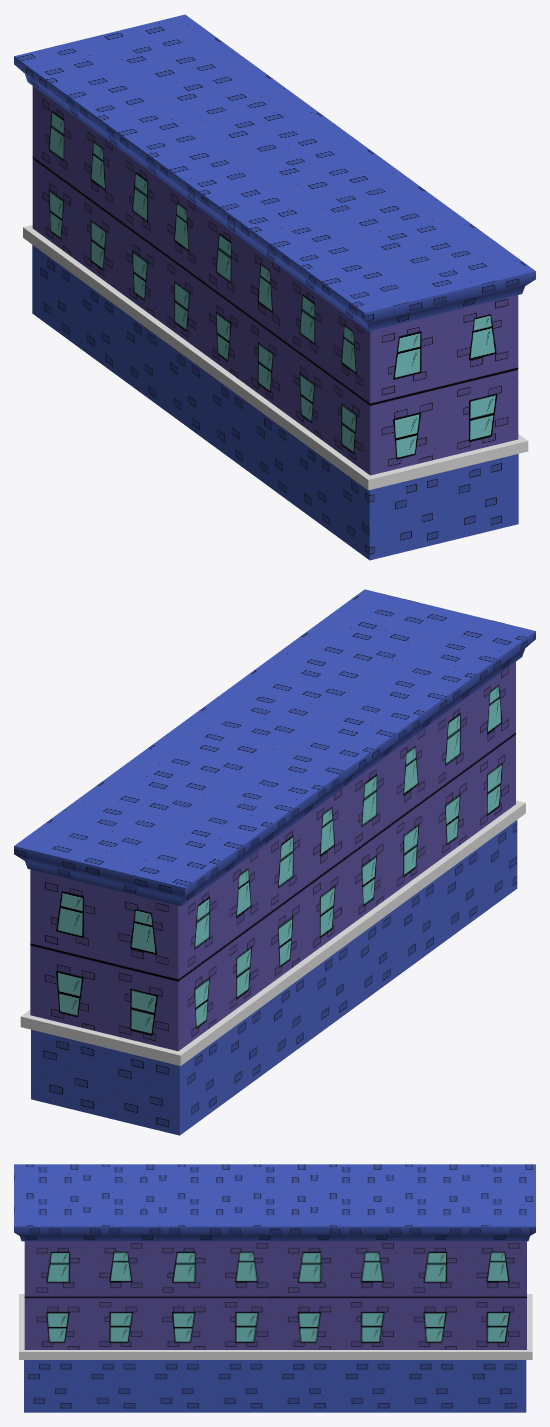
The picture shows the model from 3 angles, top to bottom: view 1: azimuth 30°, elevation 25°; view 2: azimuth 150°, elevation 25°; view 3: azimuth 270°, elevation 25°; orthographic projection. The views are drawn at different scales.
Parts seen in each view (by area): view 1: Box003, Box004, Box001, Box002; view 2: Box003, Box004, Box001, Box002; view 3: Box003, Box004, Box001, Box002.
Part boxes in pixels (<box>): Box003: <box>32,86,518,475</box>; Box004: <box>14,14,535,331</box>; Box001: <box>32,245,518,560</box>; Box002: <box>23,225,528,490</box>; Box003: <box>30,662,515,1051</box>; Box004: <box>14,589,535,906</box>; Box001: <box>31,820,517,1135</box>; Box002: <box>20,800,525,1065</box>; Box003: <box>24,1241,526,1349</box>; Box004: <box>14,1164,535,1241</box>; Box001: <box>24,1360,526,1412</box>; Box002: <box>19,1294,532,1359</box>.
Bounding box in the file's own units: 5.78 × 8.24 × 20.52.
